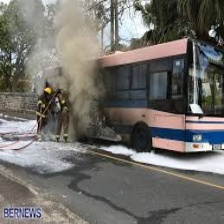smoke: (54, 18, 103, 132)
